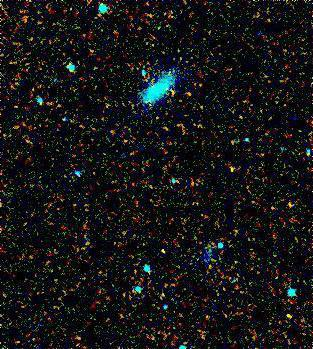star: (150, 235, 180, 265)
